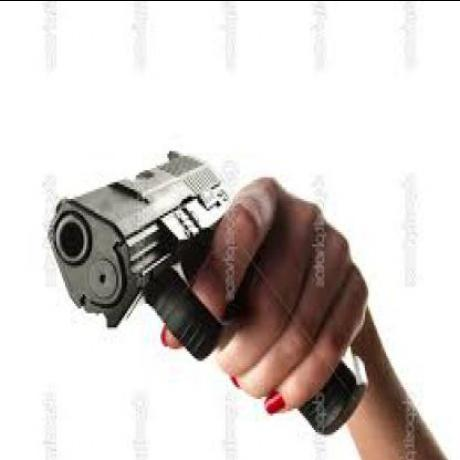1: (170, 176, 442, 460)
weapon: (34, 146, 376, 439)
